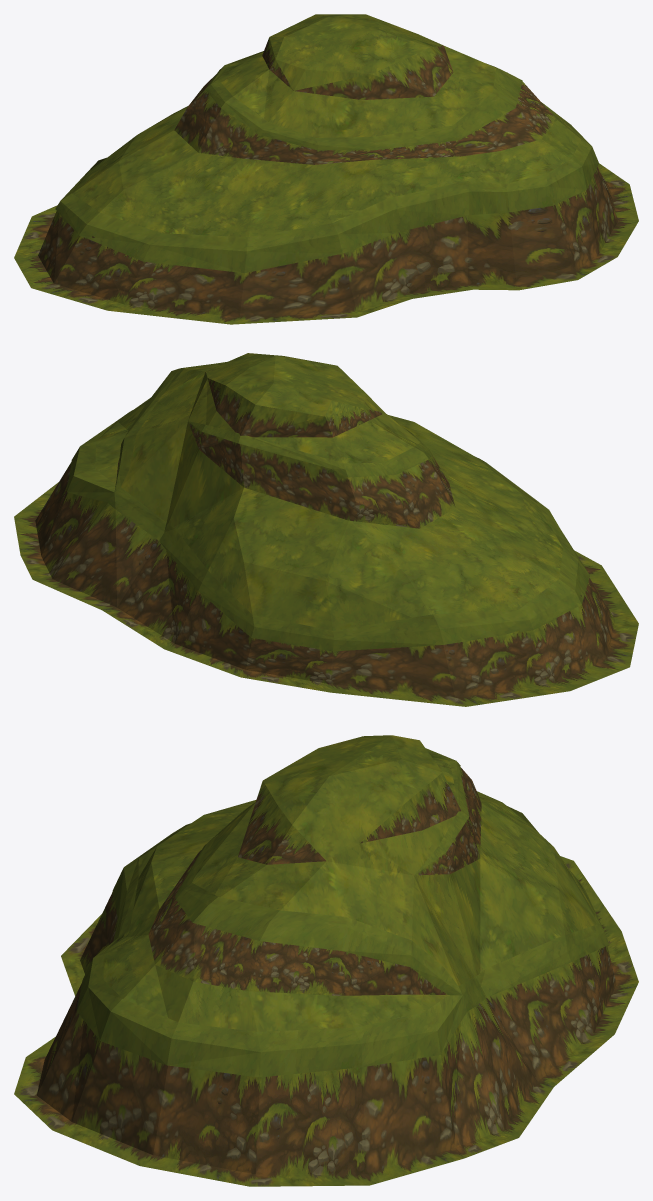
The model's file is hill_rocky.fbx.
The picture shows the model from 3 angles, top to bottom: view 1: azimuth 30°, elevation 25°; view 2: azimuth 150°, elevation 25°; view 3: azimuth 270°, elevation 25°; orthographic projection. The views are drawn at different scales.
Visible parts, largest first — view 1: obj2; view 2: obj2; view 3: obj2.
Part boxes in pixels (bbox=[...]): obj2: bbox=[14, 14, 638, 324]; obj2: bbox=[14, 353, 638, 706]; obj2: bbox=[14, 735, 638, 1186].
Bounding box in the file's own units: 26.92 × 8.71 × 18.91.
